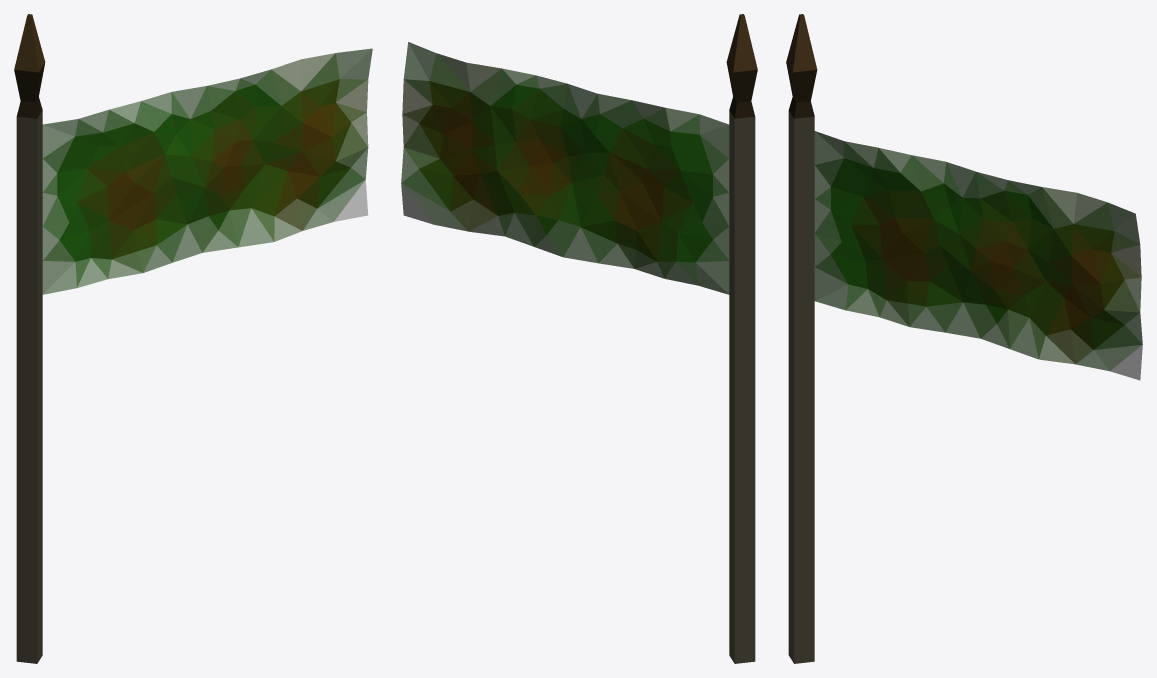
File: Prop_FlagSmallB.fbx
The picture shows the model from 3 angles, left to right: view 1: azimuth 30°, elevation 25°; view 2: azimuth 150°, elevation 25°; view 3: azimuth 330°, elevation 25°; orthographic projection.
Parts seen in each view (by area): view 1: Prop_FlagSmallB; view 2: Prop_FlagSmallB; view 3: Prop_FlagSmallB.
Boxes of the visible parts, box(x1,y1,x2,y2) form: Prop_FlagSmallB: box(14, 14, 372, 663); Prop_FlagSmallB: box(401, 14, 757, 663); Prop_FlagSmallB: box(786, 14, 1142, 663).
Size of the model in its own units: 136 by 236 by 11.99.
